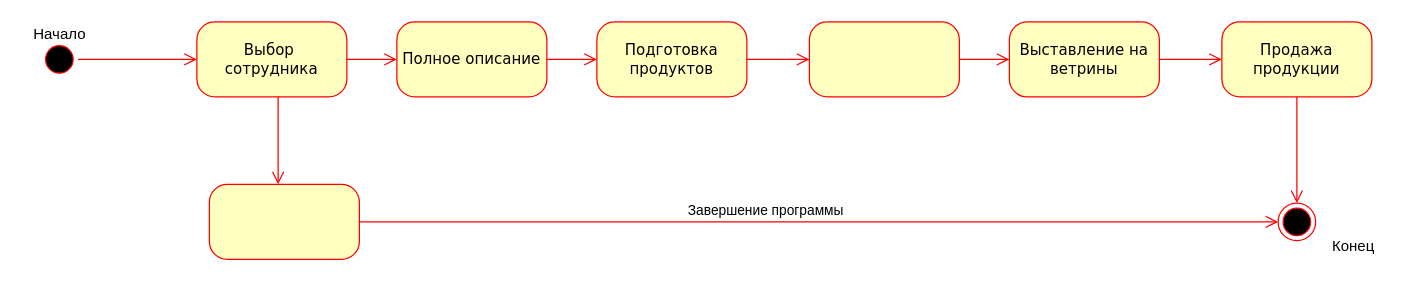
This 1405x281 diagram has some shape labels left out. Here are the shapes that lost their labels. From the top down, the centre of each, then its label:
the point at 883,59: Заготовка продукции
the point at 283,221: Отмена выбора
